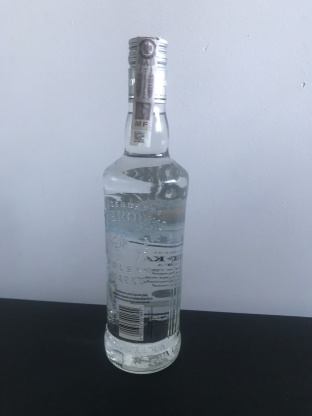nakretka: (124, 31, 170, 105)
